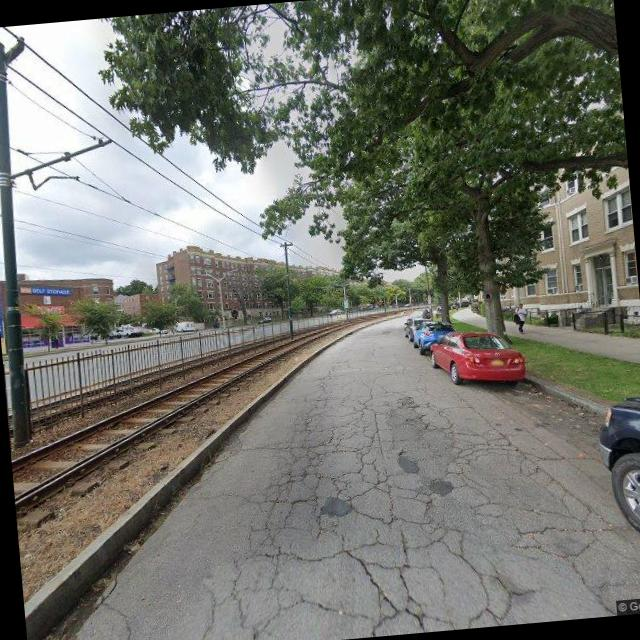crack: (197, 367, 623, 640)
